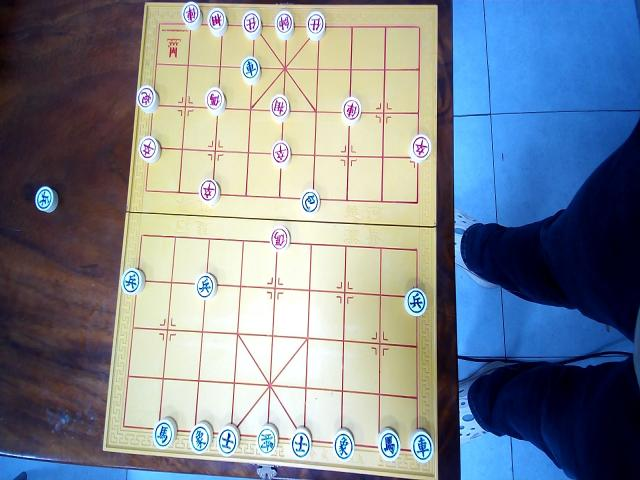piece: (410, 429, 433, 463), (377, 428, 400, 461), (217, 424, 239, 457), (153, 418, 176, 449), (333, 428, 354, 461), (190, 422, 212, 453), (257, 424, 278, 455), (121, 268, 145, 295), (404, 288, 427, 316), (409, 134, 431, 163), (35, 186, 58, 213), (291, 427, 311, 458), (208, 8, 228, 38), (138, 136, 160, 163), (137, 85, 158, 113), (181, 2, 202, 30), (270, 94, 290, 123), (195, 273, 217, 299), (306, 11, 325, 41), (242, 10, 261, 40), (205, 87, 225, 115), (241, 56, 260, 85), (342, 97, 361, 126), (199, 179, 220, 205), (275, 10, 293, 40), (271, 140, 290, 168), (270, 226, 290, 251), (301, 189, 320, 215)
